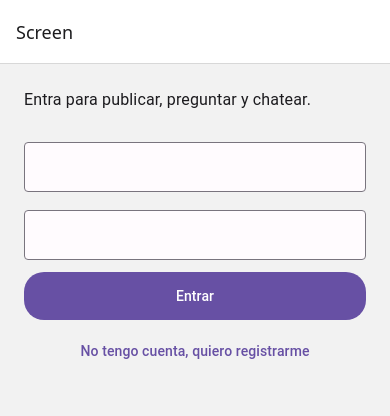
Scenario: LoginScreen › el error del repositorio se ve en pantalla
In the field with test id "login.email": [195, 168] box x1=24 y1=144 x2=366 y2=192, type "ana@demo.com"
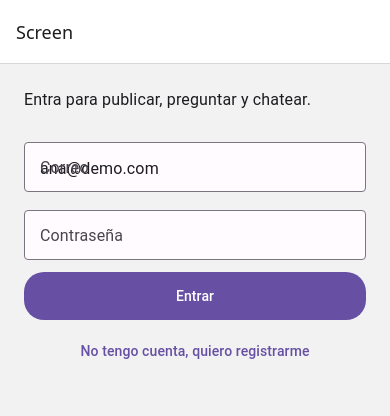
In the password field with test id "login.password": [195, 236] box x1=24 y1=212 x2=366 y2=260, type "mala"
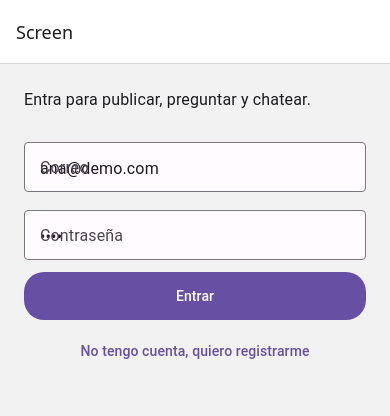
Click the button with test id "login.submit": [195, 296] box x1=24 y1=272 x2=366 y2=320
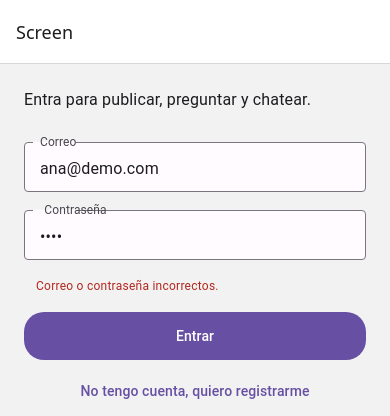
Check: the text "Correo o contraseña incorrectos." is shown, box x1=36 y1=279 x2=219 y2=293
